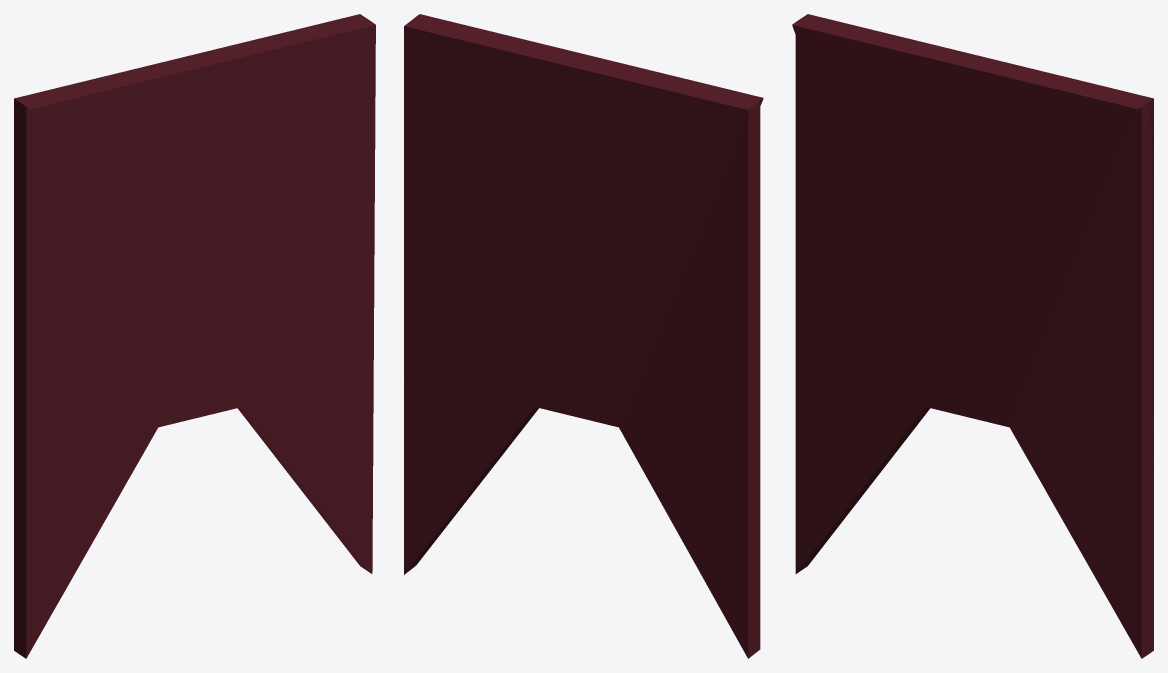
Rendered from LCdecoracaojanela2.fbx.
3 views of the same model, side by side, from view 1: azimuth 30°, elevation 25°; view 2: azimuth 150°, elevation 25°; view 3: azimuth 330°, elevation 25° (orthographic).
Visible parts, largest first — view 1: Cube.081; view 2: Cube.081; view 3: Cube.081.
Boxes of the visible parts, x1,y1,x2,y2 form: Cube.081: (14,14,375,658); Cube.081: (404,14,763,658); Cube.081: (792,14,1153,658).
Bounding box in the file's own units: 350 × 534 × 27.51.
